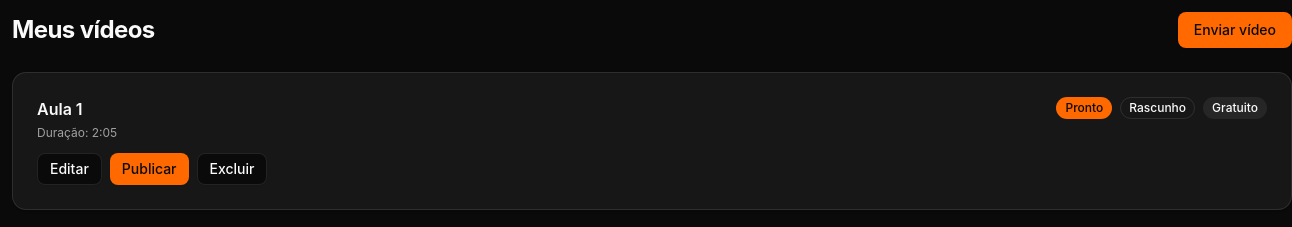
Test: MyVideosPage › deletes only after the confirmation
Click the button with aria-label "Excluir Aula 1": {"x": 232, "y": 169} [196,153,267,185]
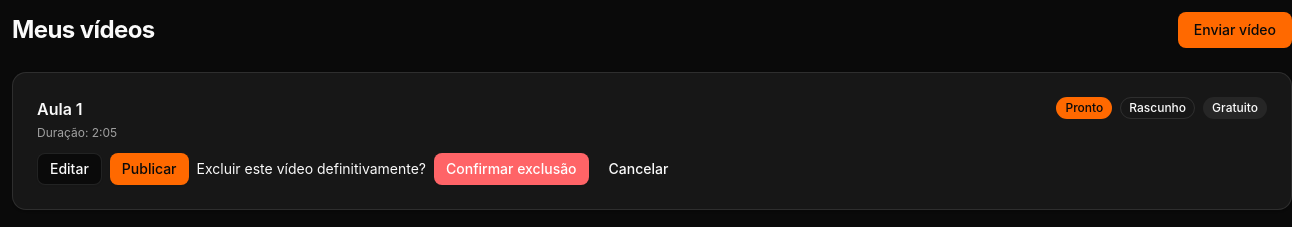
Note: Cancelling keeps the video and sends nothing.
Click the button "Cancelar": {"x": 638, "y": 169} [597,153,680,185]
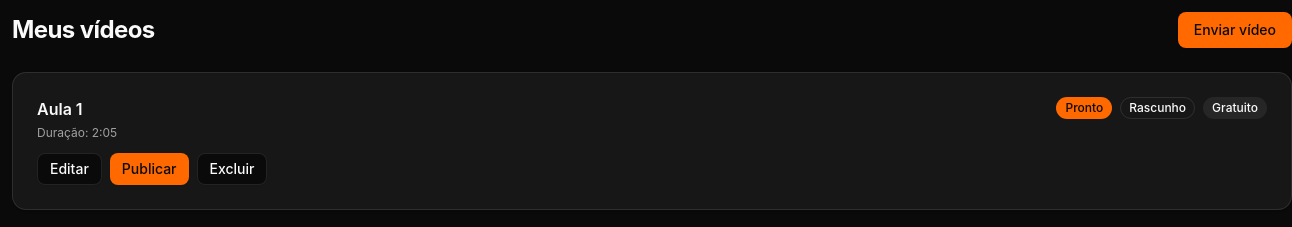
Click the button with aria-label "Excluir Aula 1": {"x": 232, "y": 169} [196,153,267,185]
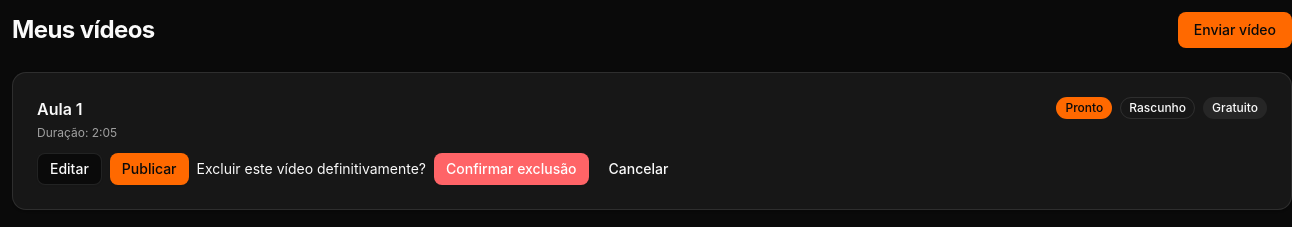
Click the button "Confirmar exclusão": {"x": 511, "y": 169} [434,153,588,185]
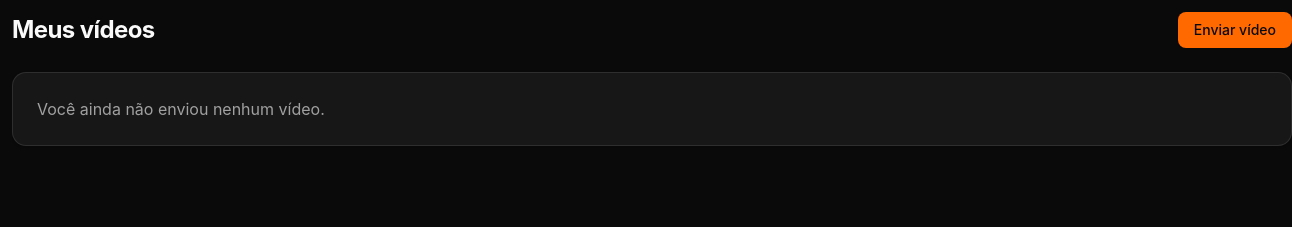
Check: the text "Você ainda não enviou nenhum vídeo." is shown, box [37,99,325,119]
